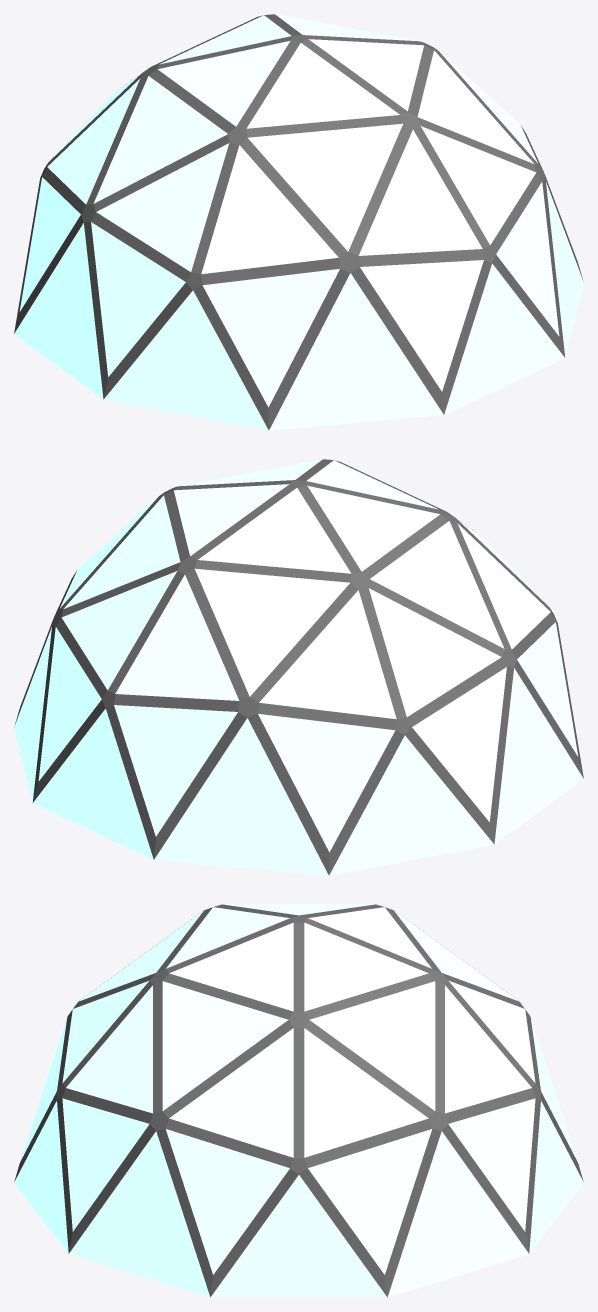
File: tile_lab_sphere.fbx
The picture shows the model from 3 angles, top to bottom: view 1: azimuth 30°, elevation 25°; view 2: azimuth 150°, elevation 25°; view 3: azimuth 270°, elevation 25°; orthographic projection. The views are drawn at different scales.
Visible parts, largest first — view 1: Sphere; view 2: Sphere; view 3: Sphere.
Part boxes in pixels (<box>): Sphere: <box>14,14,583,430</box>; Sphere: <box>14,459,583,875</box>; Sphere: <box>14,904,583,1297</box>.
Size of the model in its own units: 2.49 by 1.34 by 2.62.
